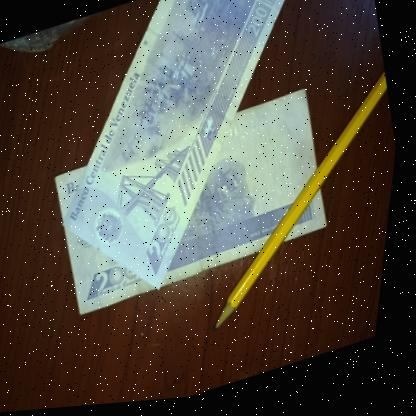ten-back-vef: (44, 90, 348, 322)
two_hundred-back-vef: (9, 0, 351, 324)
